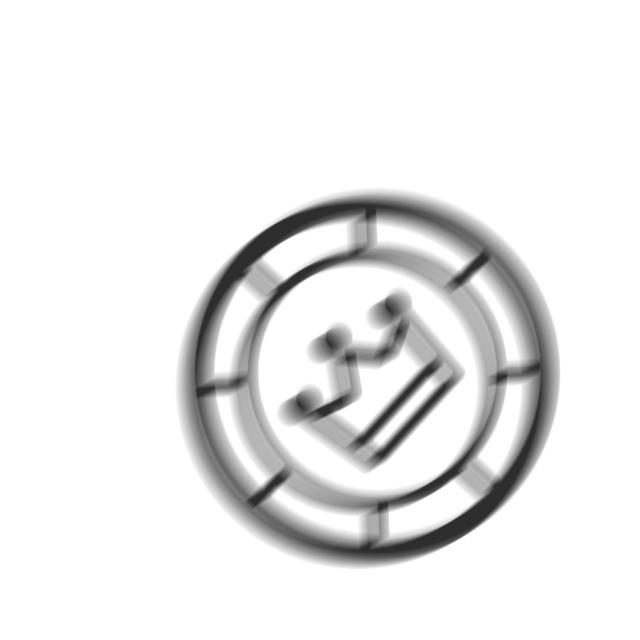coin: (173, 186, 565, 576)
